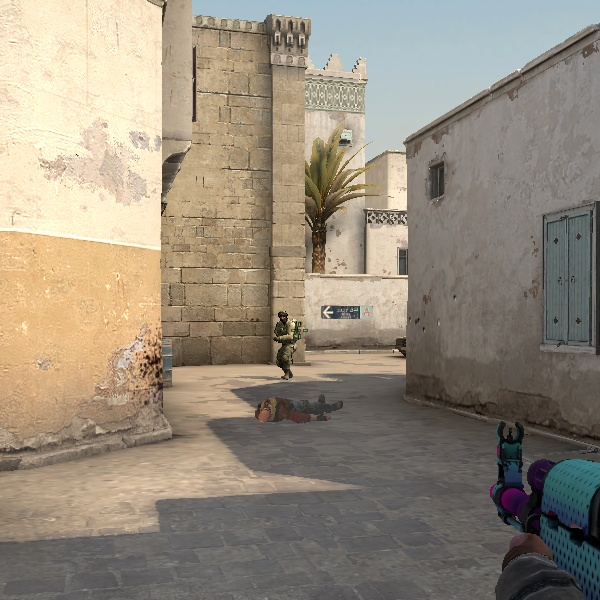ct_body: (261, 308, 304, 383)
